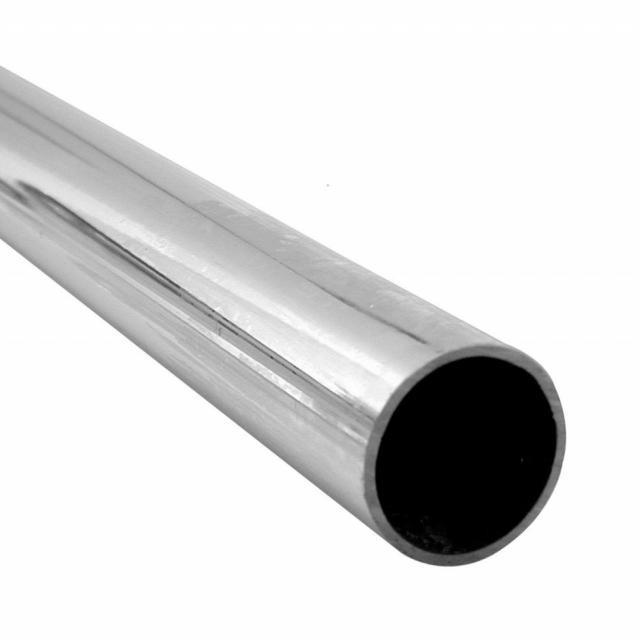pipe: (358, 338, 571, 570)
